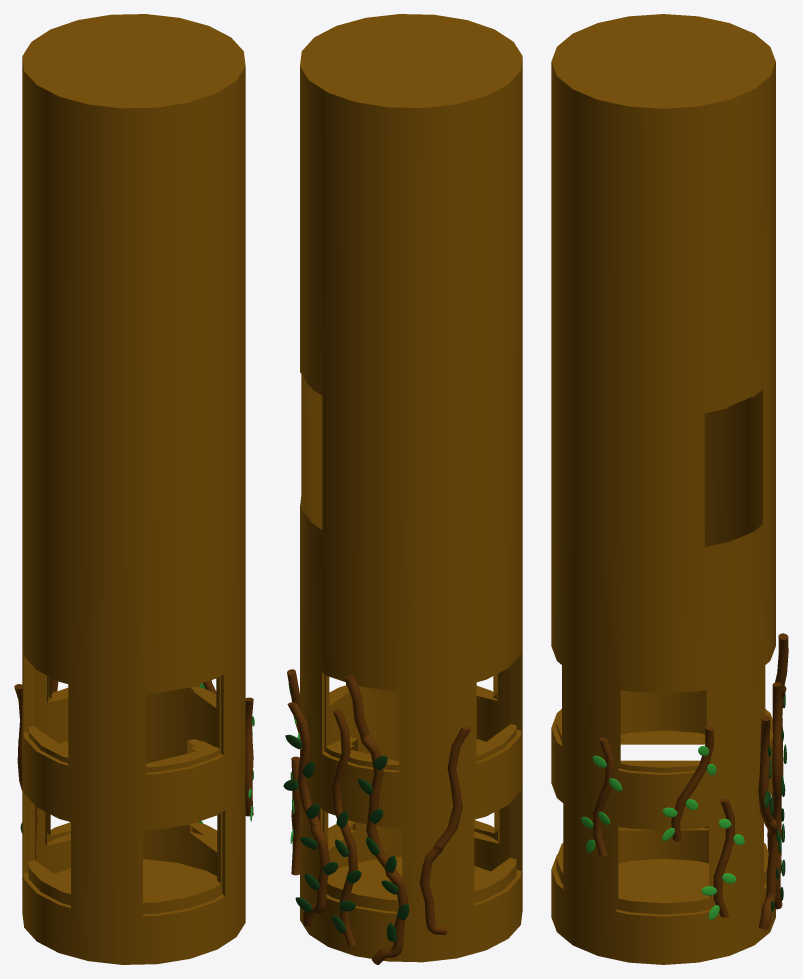
Rendered from bullding_1.fbx.
3 renders of one model, left to right at view 1: azimuth 30°, elevation 25°; view 2: azimuth 150°, elevation 25°; view 3: azimuth 270°, elevation 25°, orthographic.
Visible parts, largest first — view 1: polySurface1, pCylinder6, pasted__pCylinder10, pCylinder23; view 2: polySurface1, pCylinder6, pCylinder27, pCylinder26, pCylinder23, pCylinder32, pasted__pCylinder9; view 3: polySurface1, pCylinder6, pCylinder26, pasted__pCylinder9, pCylinder32, pasted__pCylinder10, pasted__pCylinder11, pCylinder27.
Part boxes in pixels (x1,y1,x2,y2): polySurface1: [22, 14, 245, 964]; pCylinder6: [28, 661, 222, 914]; pasted__pCylinder10: [245, 697, 254, 821]; pCylinder23: [14, 684, 37, 879]; polySurface1: [300, 14, 522, 962]; pCylinder6: [305, 383, 516, 911]; pCylinder27: [344, 675, 408, 964]; pCylinder26: [287, 702, 329, 925]; pCylinder23: [419, 726, 470, 935]; pCylinder32: [332, 709, 357, 945]; pasted__pCylinder9: [290, 756, 300, 875]; polySurface1: [551, 14, 775, 964]; pCylinder6: [556, 389, 770, 914]; pCylinder26: [758, 715, 778, 929]; pasted__pCylinder9: [701, 798, 744, 919]; pCylinder32: [772, 682, 781, 909]; pasted__pCylinder10: [581, 737, 621, 856]; pasted__pCylinder11: [662, 726, 716, 841]; pCylinder27: [767, 633, 788, 905].
Bounding box in the file's own units: 1053 × 4217 × 1057.
